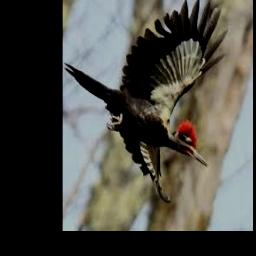Woodpecker: (64, 0, 228, 202)
